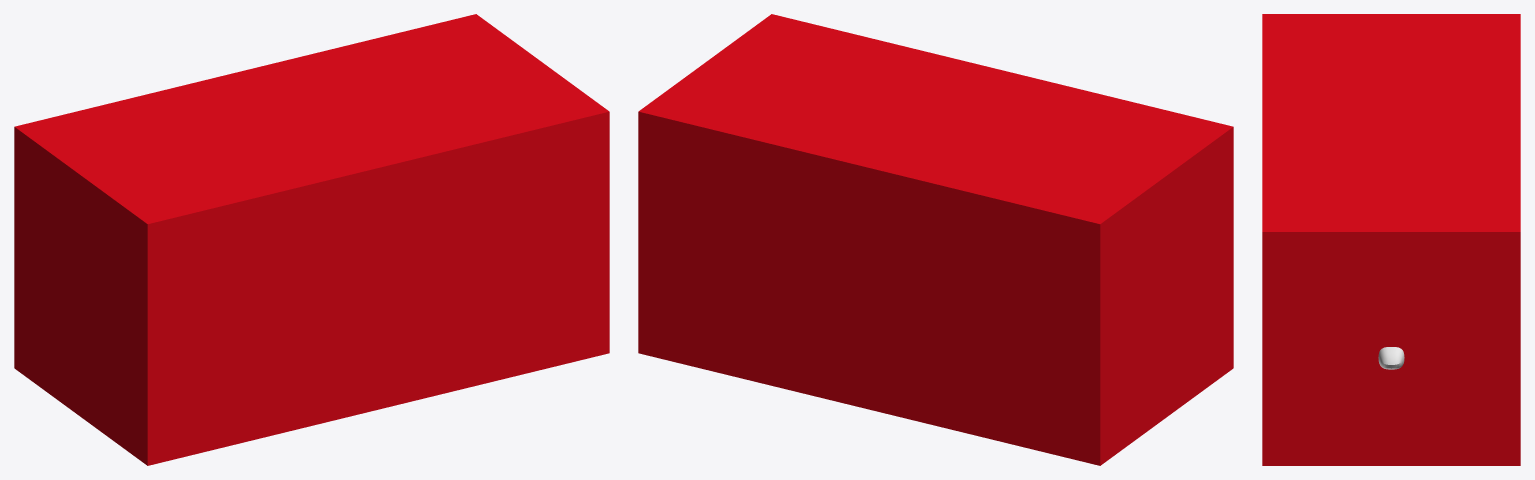
Rendered from Shad2.glb.
The picture shows the model from 3 angles, left to right: view 1: azimuth 30°, elevation 25°; view 2: azimuth 150°, elevation 25°; view 3: azimuth 270°, elevation 25°; orthographic projection. The views are drawn at different scales.
Parts seen in each view (by area): view 1: Ref_L; view 2: Ref_L; view 3: Ref_L, Corps_L.
Part boxes in pixels (x1=…): Ref_L: x1=14, y1=14, x2=609, y2=465; Ref_L: x1=638, y1=14, x2=1233, y2=465; Ref_L: x1=1262, y1=14, x2=1520, y2=465; Corps_L: x1=1378, y1=347, x2=1404, y2=369.
Size of the model in its own units: 0.0465 by 0.0225 by 0.0225.
